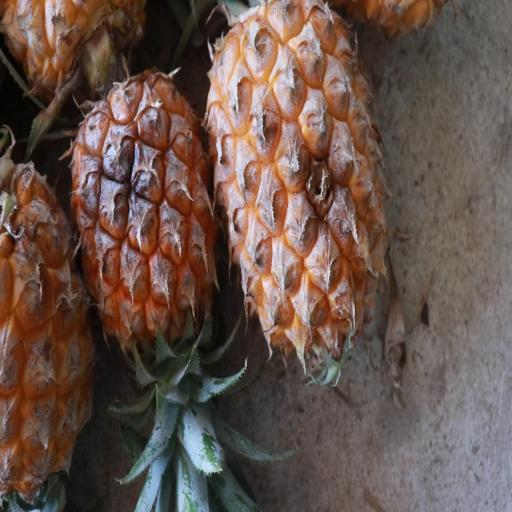Pineapple - v8 v1: (202, 0, 396, 375), (66, 62, 226, 367), (0, 154, 96, 506), (3, 492, 6, 497)
